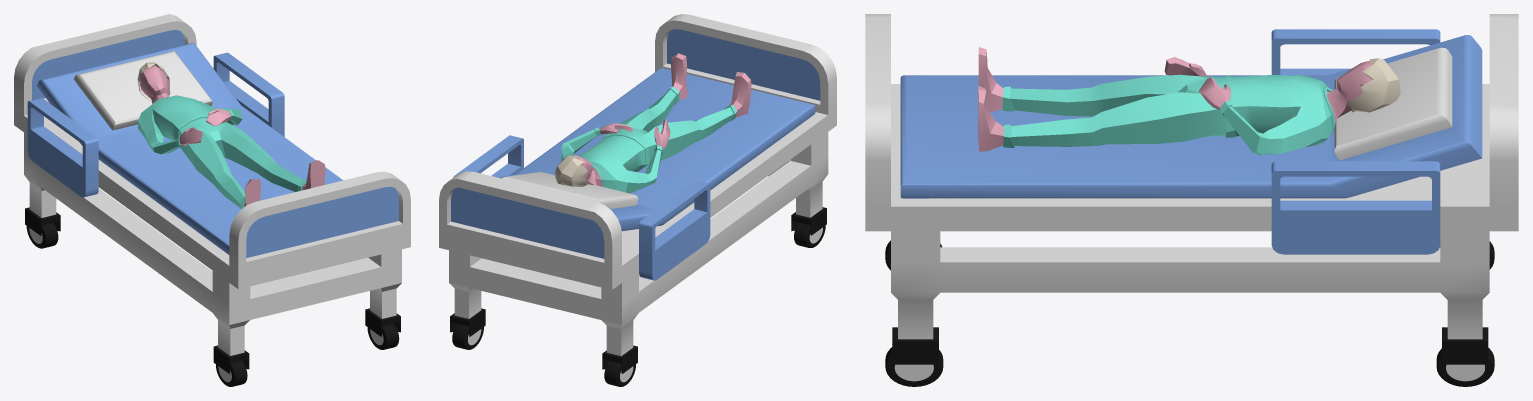
File: patient2_plus_bed.fbx
The picture shows the model from 3 angles, left to right: view 1: azimuth 30°, elevation 25°; view 2: azimuth 150°, elevation 25°; view 3: azimuth 270°, elevation 25°; orthographic projection. The views are drawn at different scales.
Parts seen in each view (by area): view 1: bed, Patient; view 2: bed, Patient; view 3: bed, Patient.
Boxes of the visible parts, x1,y1,x2,y2 form: bed: (14,14,410,386); Patient: (137,62,325,209); bed: (439,14,836,386); Patient: (555,53,751,193); bed: (865,14,1518,386); Patient: (978,47,1400,155).
Bounding box in the file's own units: 136 × 121 × 266.
